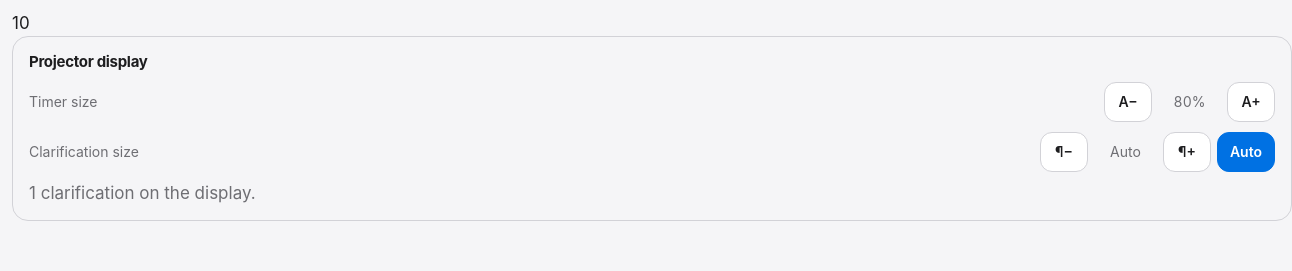
Test: proctor page: projector sizes › keeps a click while signed out (a server restart) and sends it once signed back in
What coordinates should you click on to do the following:
click the button named "Display timer size: smaller"
I would click on:
 (1128, 102)
Its box is [1104,82,1152,122].
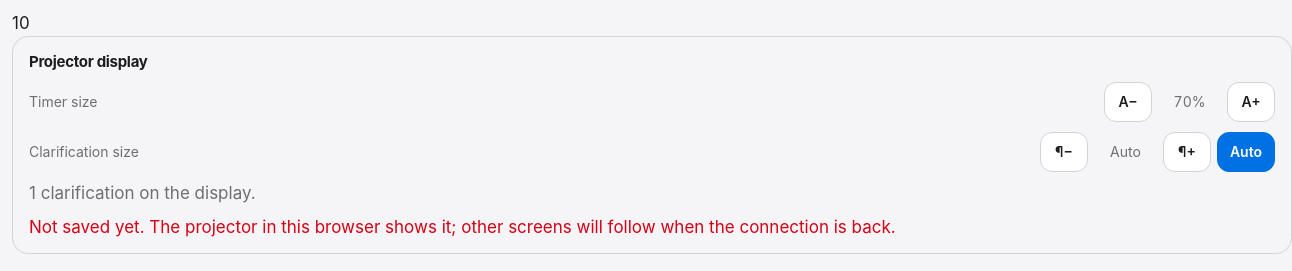
Now the text "Not saved yet" is shown, box [29,217,896,237]
